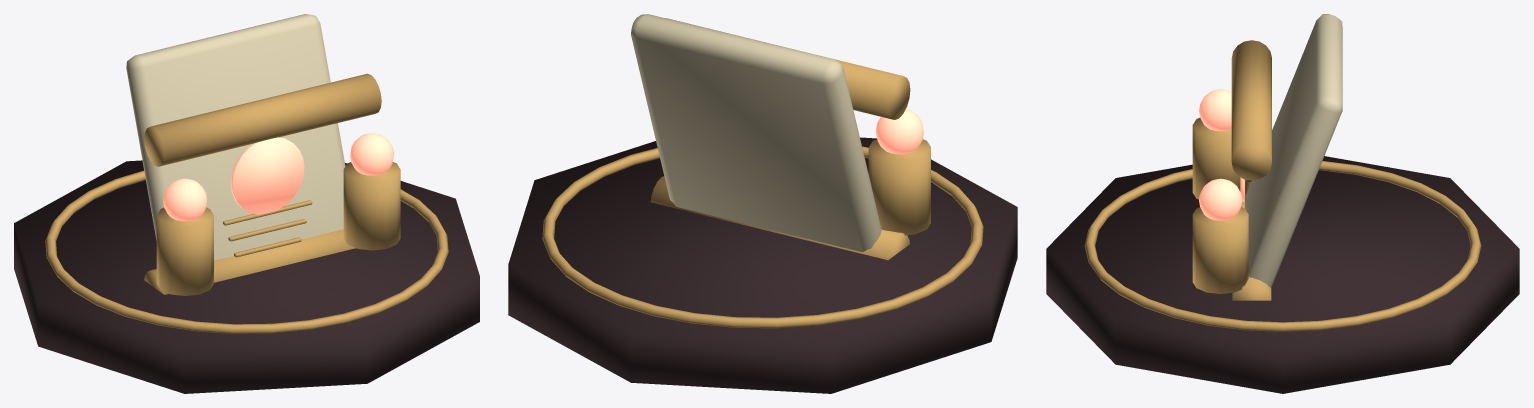
3 views of the same model, side by side, from view 1: azimuth 30°, elevation 25°; view 2: azimuth 150°, elevation 25°; view 3: azimuth 270°, elevation 25° (orthographic). The views are drawn at different scales.
Parts seen in each view (by area): view 1: Hexagonal plinth, Parchment, Binding.001, Inlaid rim, Tactical token.001, Tactical token, 3B embossed seal, Binding, Tactical head, Tactical head.001, Embossed line.001, Embossed line; view 2: Hexagonal plinth, Parchment, Inlaid rim, Tactical token, Binding.001, Binding, Tactical head; view 3: Hexagonal plinth, Parchment, Inlaid rim, Binding.001, Tactical token.001, Tactical token, Tactical head.001, Tactical head, Binding.
Boxes of the visible parts, x1=… form: Hexagonal plinth: x1=14, y1=160, x2=479, y2=393; Parchment: x1=126, y1=14, x2=345, y2=260; Binding.001: x1=144, y1=73, x2=381, y2=166; Inlaid rim: x1=45, y1=170, x2=448, y2=333; Tactical token.001: x1=343, y1=162, x2=400, y2=250; Tactical token: x1=156, y1=207, x2=213, y2=295; 3B embossed seal: x1=230, y1=137, x2=304, y2=214; Binding: x1=144, y1=229, x2=355, y2=294; Tactical head: x1=163, y1=178, x2=207, y2=221; Tactical head.001: x1=350, y1=133, x2=393, y2=175; Embossed line.001: x1=228, y1=219, x2=306, y2=241; Embossed line: x1=223, y1=200, x2=312, y2=225; Hexagonal plinth: x1=508, y1=137, x2=1017, y2=393; Parchment: x1=631, y1=14, x2=881, y2=252; Inlaid rim: x1=542, y1=146, x2=983, y2=328; Tactical token: x1=868, y1=139, x2=930, y2=235; Binding.001: x1=666, y1=18, x2=910, y2=119; Binding: x1=650, y1=176, x2=909, y2=259; Tactical head: x1=876, y1=108, x2=923, y2=154; Hexagonal plinth: x1=1046, y1=156, x2=1519, y2=393; Parchment: x1=1246, y1=14, x2=1342, y2=287; Inlaid rim: x1=1084, y1=161, x2=1481, y2=331; Binding.001: x1=1231, y1=40, x2=1271, y2=180; Tactical token.001: x1=1192, y1=207, x2=1248, y2=293; Tactical token: x1=1192, y1=117, x2=1248, y2=199; Tactical head.001: x1=1199, y1=178, x2=1242, y2=220; Tactical head: x1=1199, y1=89, x2=1231, y2=131; Binding: x1=1232, y1=181, x2=1271, y2=300.
Bounding box in the file's own units: 1.52 × 0.8899 × 1.52.
